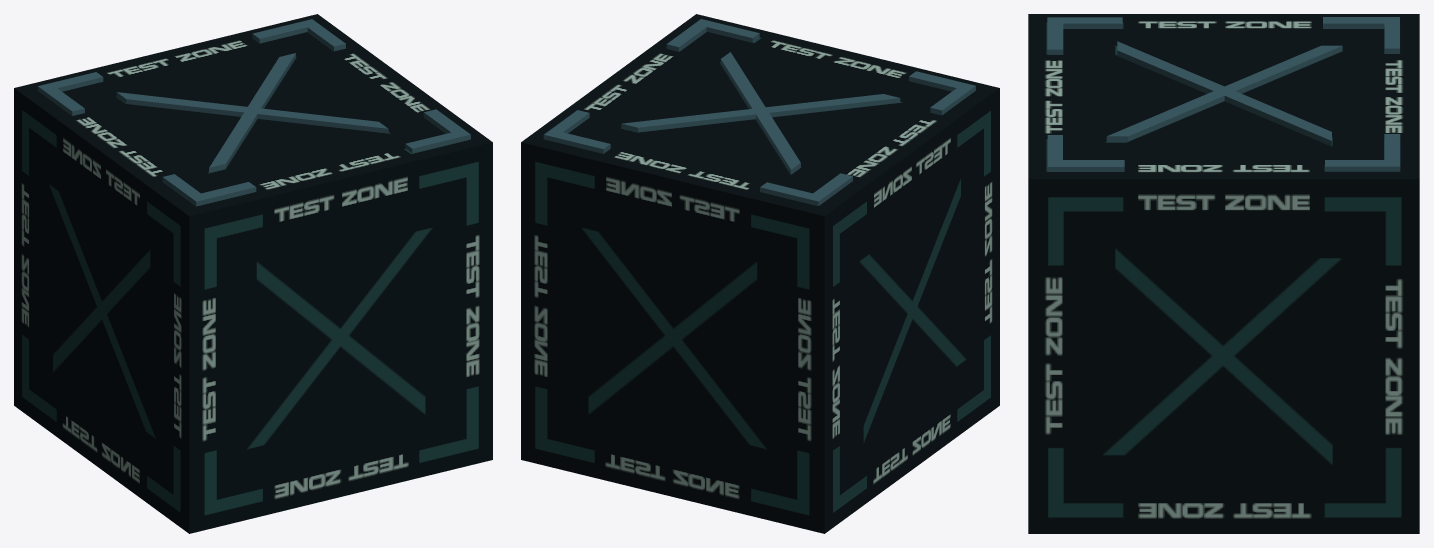
File: Floor tile.fbx
3 views of the same model, side by side, from view 1: azimuth 30°, elevation 25°; view 2: azimuth 150°, elevation 25°; view 3: azimuth 270°, elevation 25° (orthographic). The views are drawn at different scales.
Parts seen in each view (by area): view 1: Cube, Cross.003, Cross.001, Corner x3, Corner x1, Corner x2, Corner x4, Cross.002, Cross; view 2: Cube, Cross, Cross.002, Corner x4, Corner x2, Corner x1, Corner x3, Cross.001, Cross.003; view 3: Cube, Cross, Cross.001, Cross.003, Cross.002, Corner x1, Corner x3, Corner x4, Corner x2.
Part boxes in pixels (x1,y1,x2,y2): Cube: (14,14,492,533); Cross.003: (245,107,388,133); Cross.001: (116,92,260,116); Corner x3: (162,174,256,206); Corner x1: (252,19,345,51); Corner x2: (37,72,103,115); Corner x4: (405,109,470,153); Cross.002: (209,107,259,172); Cross: (244,53,295,113); Cube: (521,14,999,533); Cross: (621,107,768,132); Cross.002: (753,94,900,117); Corner x4: (666,19,759,51); Corner x2: (760,173,852,205); Corner x1: (543,110,610,153); Corner x3: (909,71,975,114); Cross.001: (756,108,800,174); Cross.003: (720,52,765,108); Cube: (1028,14,1419,533); Cross: (1215,87,1331,145); Cross.001: (1214,45,1342,95); Cross.003: (1106,86,1224,141); Cross.002: (1117,41,1234,94); Corner x1: (1325,134,1400,171); Corner x3: (1047,17,1122,54); Corner x4: (1047,135,1124,171); Corner x2: (1323,17,1399,53).
Size of the model in its own units: 200 by 203 by 200.
2 materials, 1 textured.
